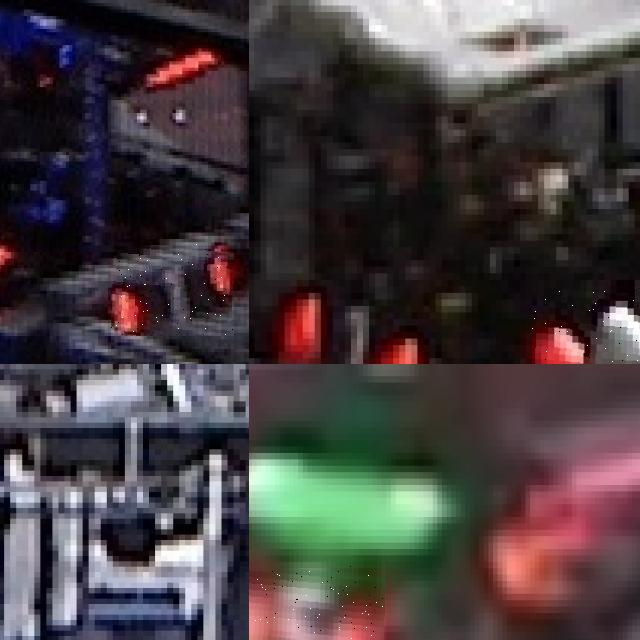R1: (111, 242, 234, 336), (284, 286, 423, 364), (532, 280, 640, 364)
R5: (249, 561, 386, 640)
